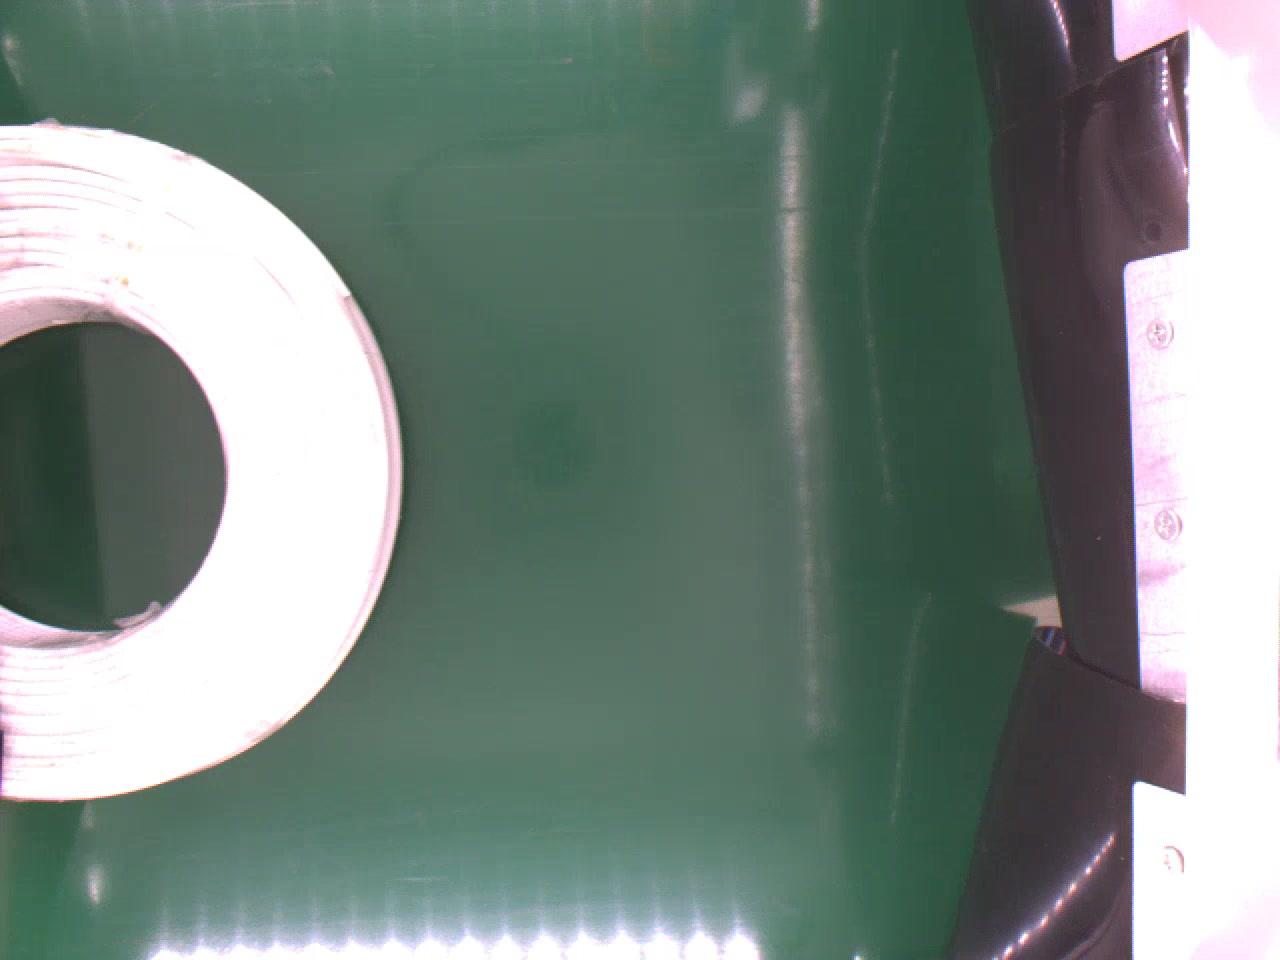white: (0, 119, 410, 810)
